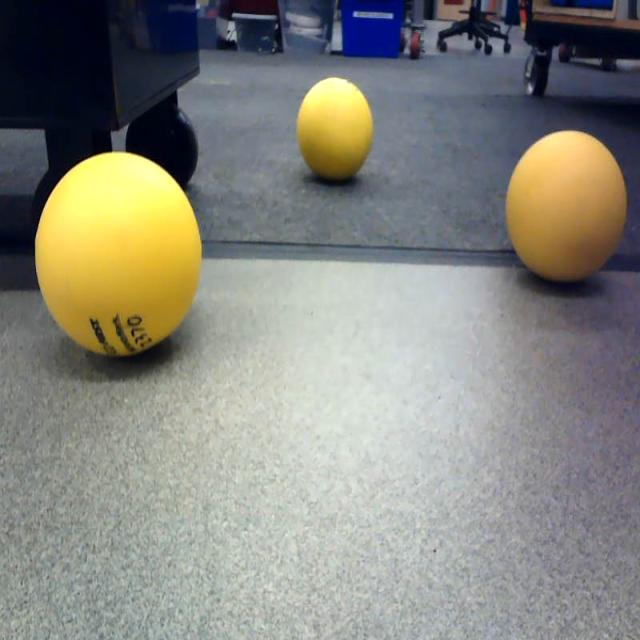Fuel: (37, 152, 202, 358), (506, 130, 626, 283), (298, 77, 373, 183)
